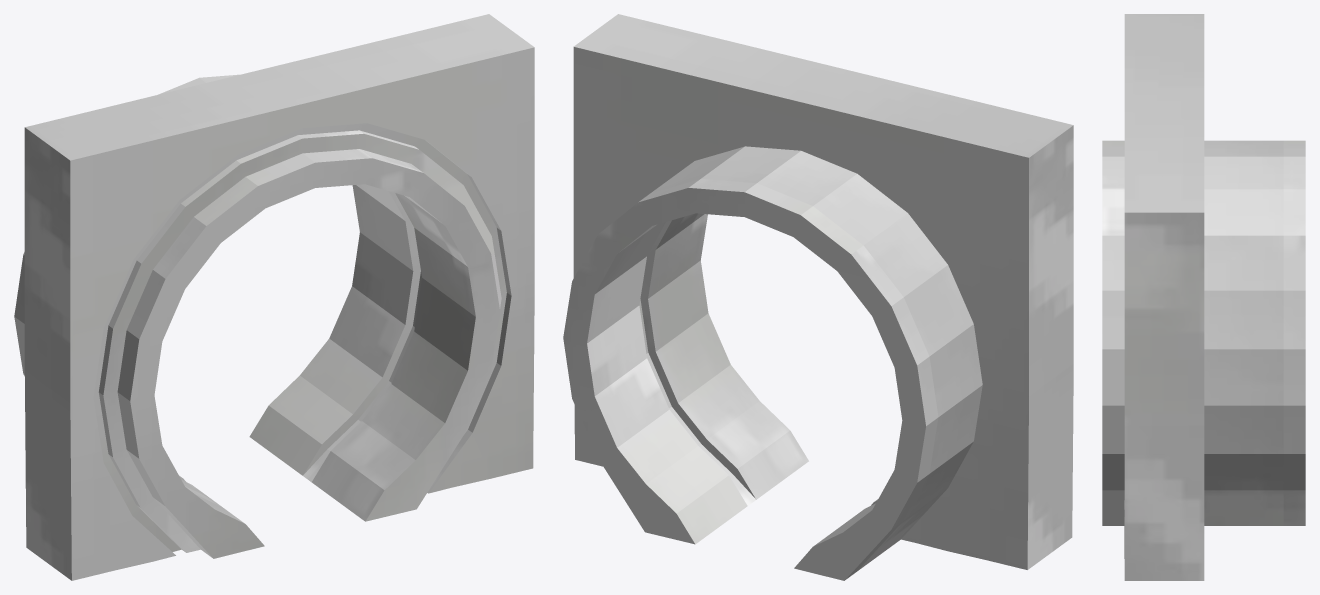
The model's file is RoundPortal.fbx.
3 renders of one model, left to right at view 1: azimuth 30°, elevation 25°; view 2: azimuth 150°, elevation 25°; view 3: azimuth 270°, elevation 25°, orthographic. The views are drawn at different scales.
Visible parts, largest first — view 1: pCylinder6; view 2: pCylinder6; view 3: pCylinder6.
Part boxes in pixels (x1,y1,x2,y2): pCylinder6: (14, 14, 534, 580); pCylinder6: (563, 14, 1073, 580); pCylinder6: (1102, 14, 1305, 580).
Size of the model in its own units: 578 by 501 by 250.
Materials: 1 (1 with a texture image).
